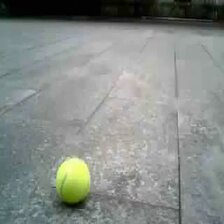tennis: (55, 158, 90, 200)
